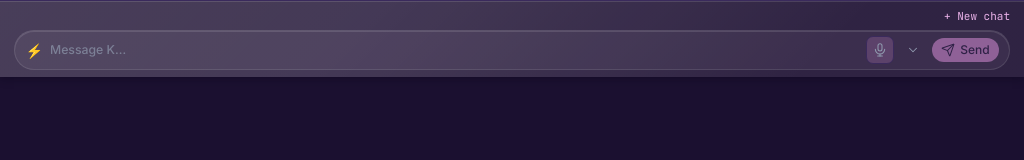
Scenario: MessageDock › a failed thread-create (new-chat send) surfaces dock-error and keeps the draft
Type "first message" into the field with test id "dock-input" at (454, 50), box [50,41,859,59]
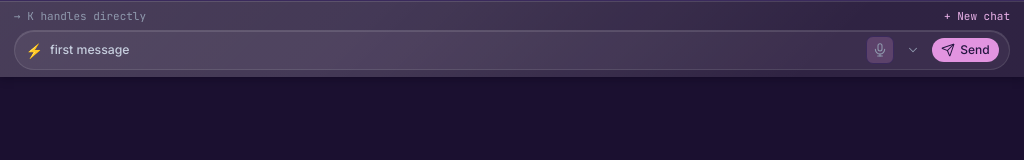
Click the button with test id "dock-send" at (965, 50), box [932,38,998,62]
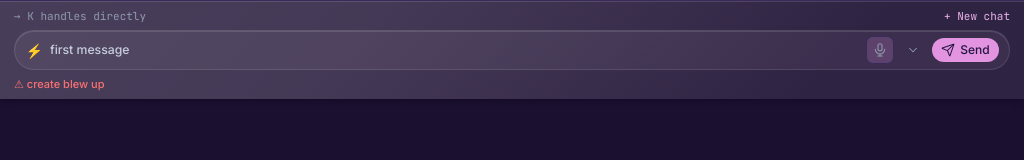
Now the text "⚠ create blew up" is shown, box [14,76,104,90]
Now the text with test id "dock-error" shows "create blew up", box [27,76,104,90]
